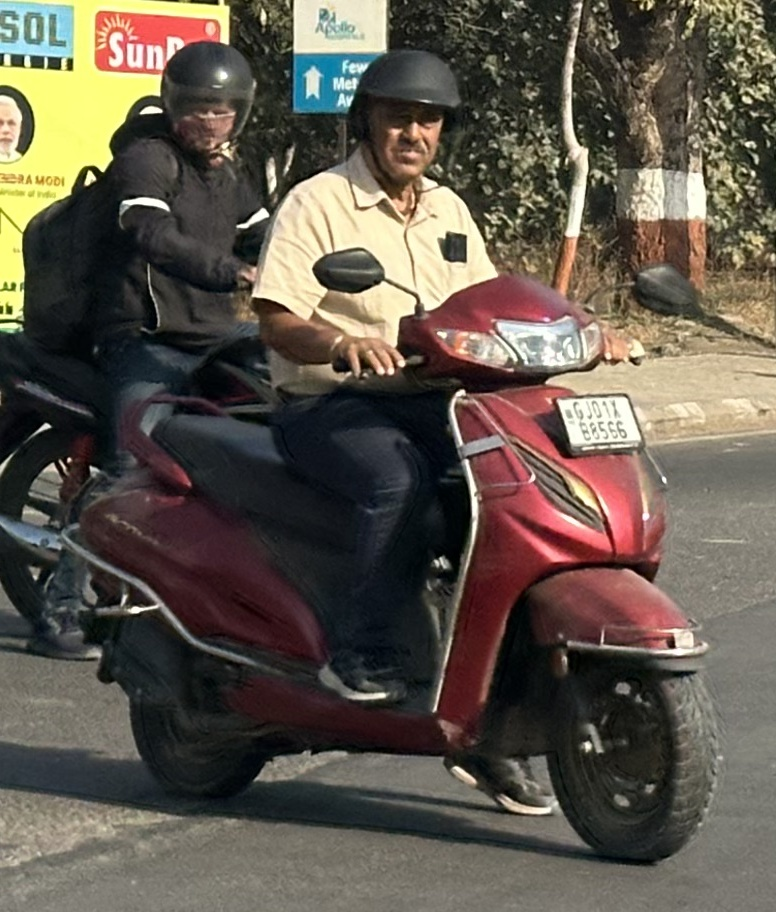BikeWithRider: (59, 40, 737, 869), (0, 34, 324, 680)
Helmet: (336, 43, 469, 179), (142, 36, 262, 161)
